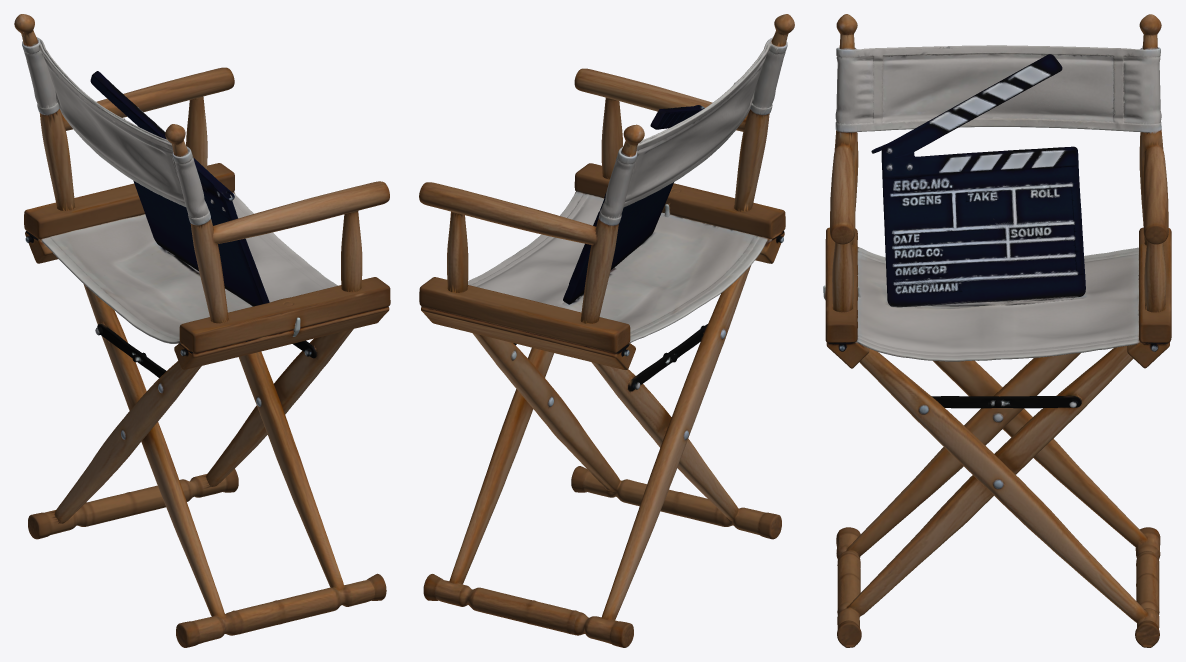
Rendered from director_chair.glb.
3 renders of one model, left to right at view 1: azimuth 30°, elevation 25°; view 2: azimuth 150°, elevation 25°; view 3: azimuth 270°, elevation 25°, orthographic.
Parts seen in each view (by area): view 1: tripo_node_21f65717-0523-447d-b934-4be5546dddea; view 2: tripo_node_21f65717-0523-447d-b934-4be5546dddea; view 3: tripo_node_21f65717-0523-447d-b934-4be5546dddea.
Part boxes in pixels (<box>): tripo_node_21f65717-0523-447d-b934-4be5546dddea: <box>14,14,390,647</box>; tripo_node_21f65717-0523-447d-b934-4be5546dddea: <box>419,14,794,647</box>; tripo_node_21f65717-0523-447d-b934-4be5546dddea: <box>823,14,1171,647</box>.
Bounding box in the file's own units: 0.3691 × 0.85 × 0.5052.
1 material, 1 textured.
